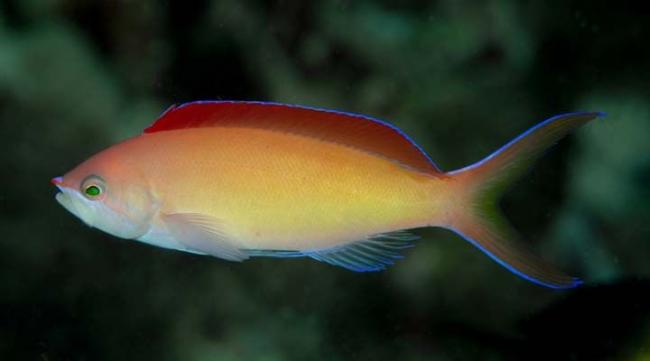fish: (52, 100, 606, 290)
